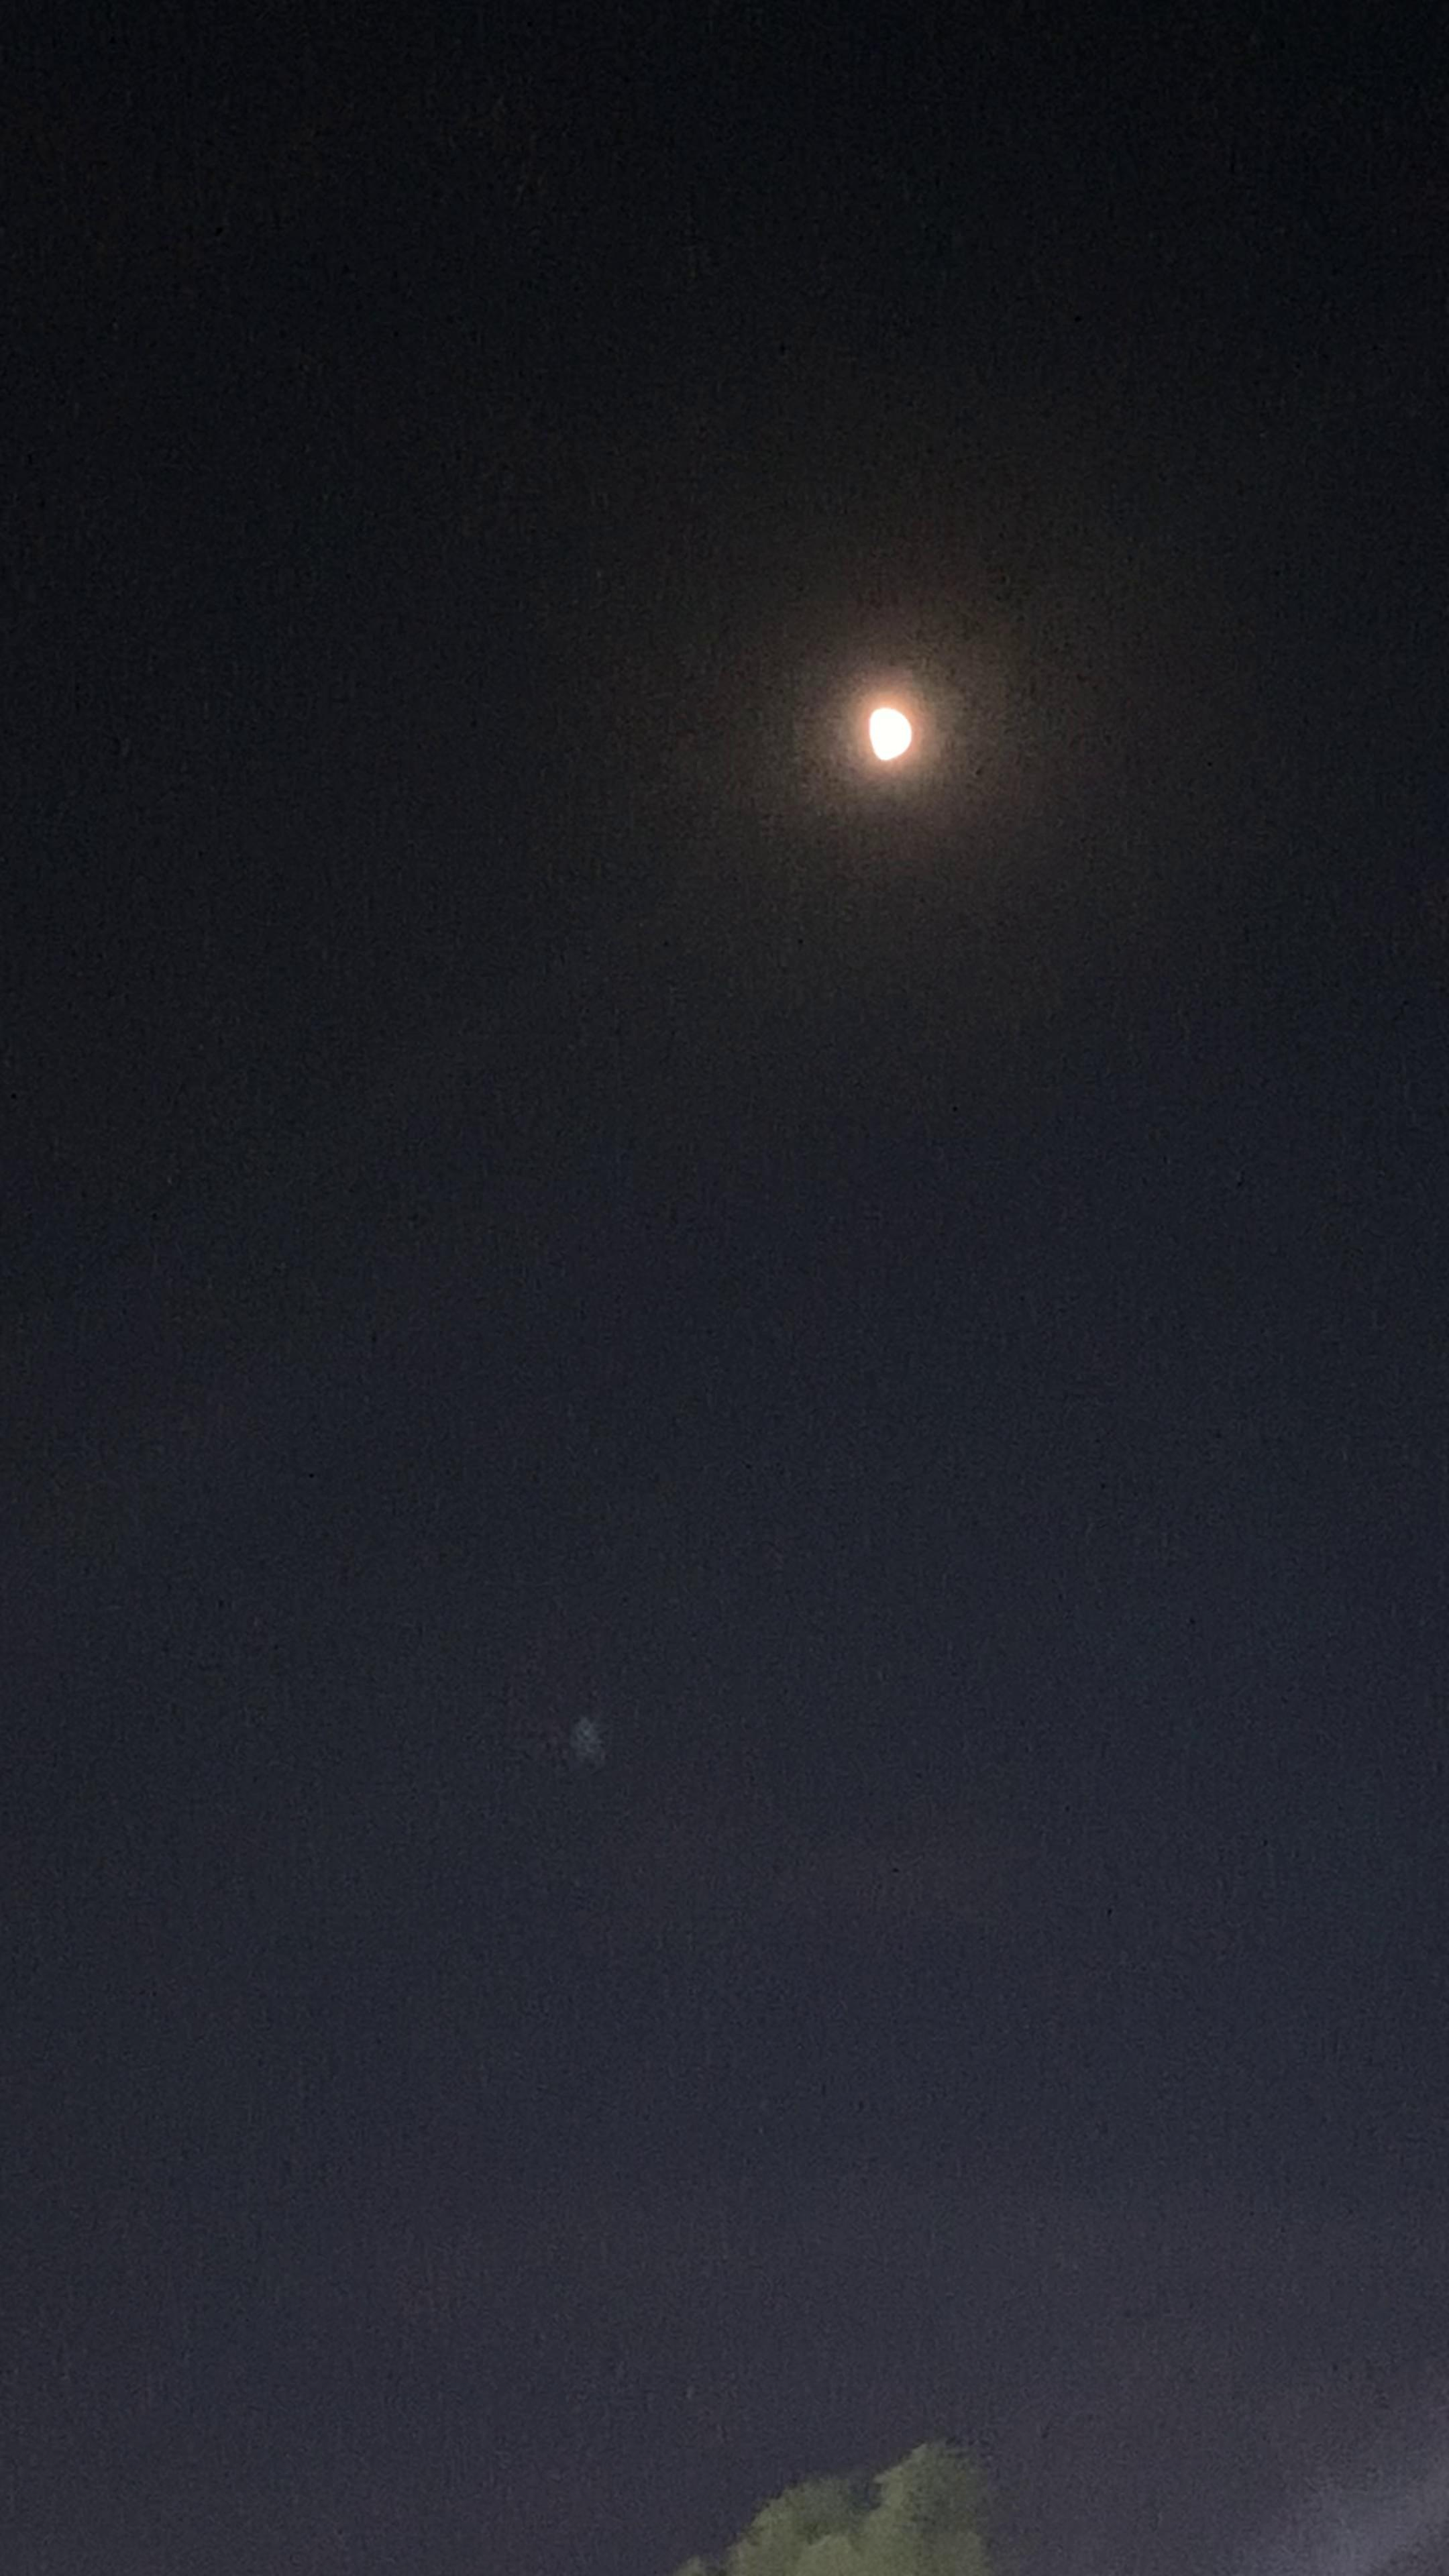moon: (812, 658, 973, 803)
